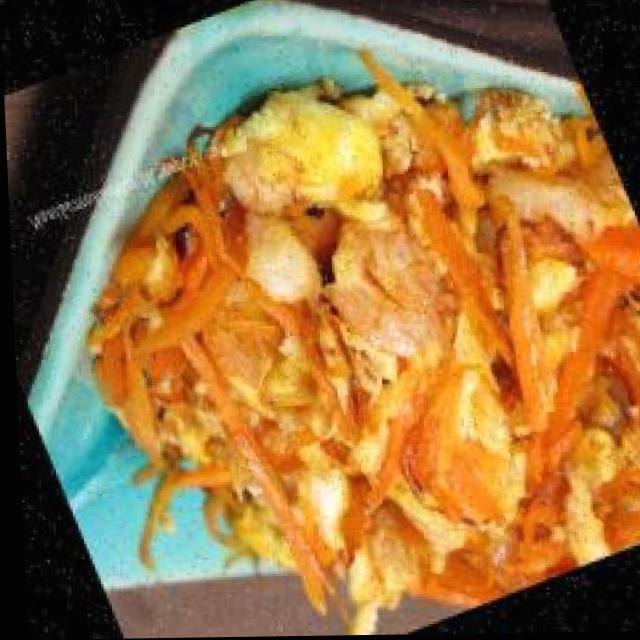carrot_eggs: (18, 13, 640, 640)
